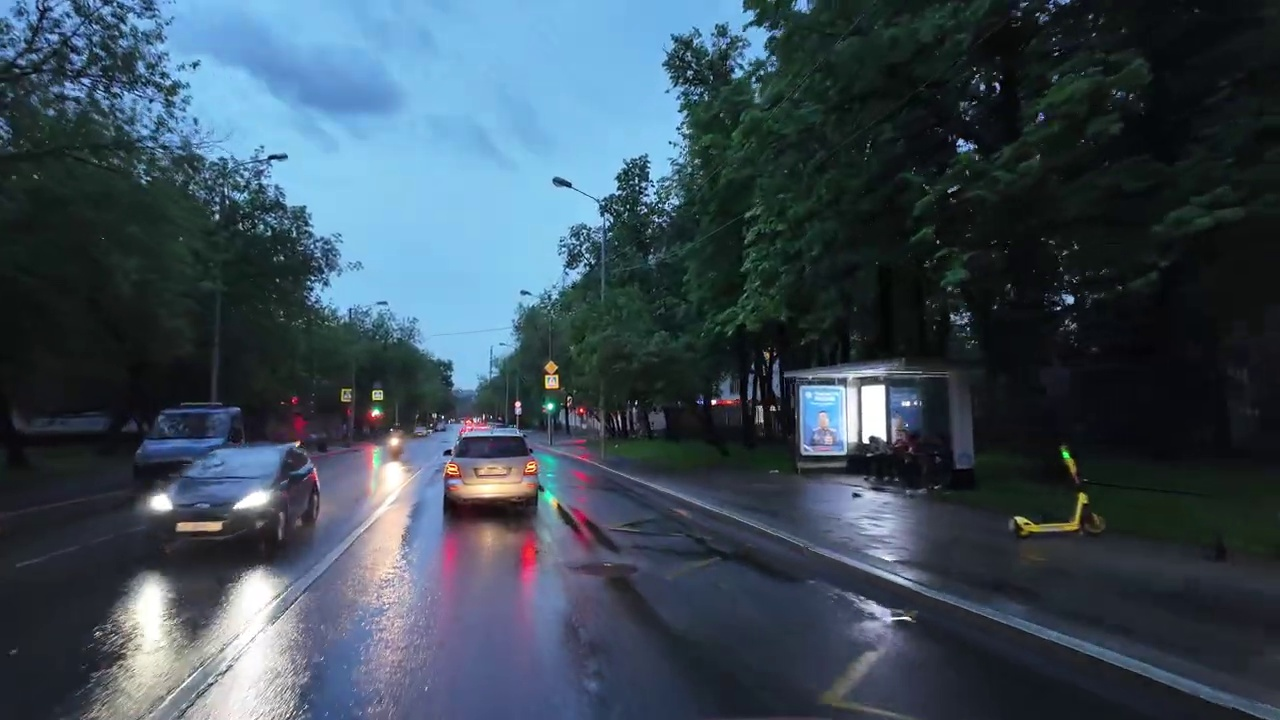apagada: (546, 169, 576, 195)
